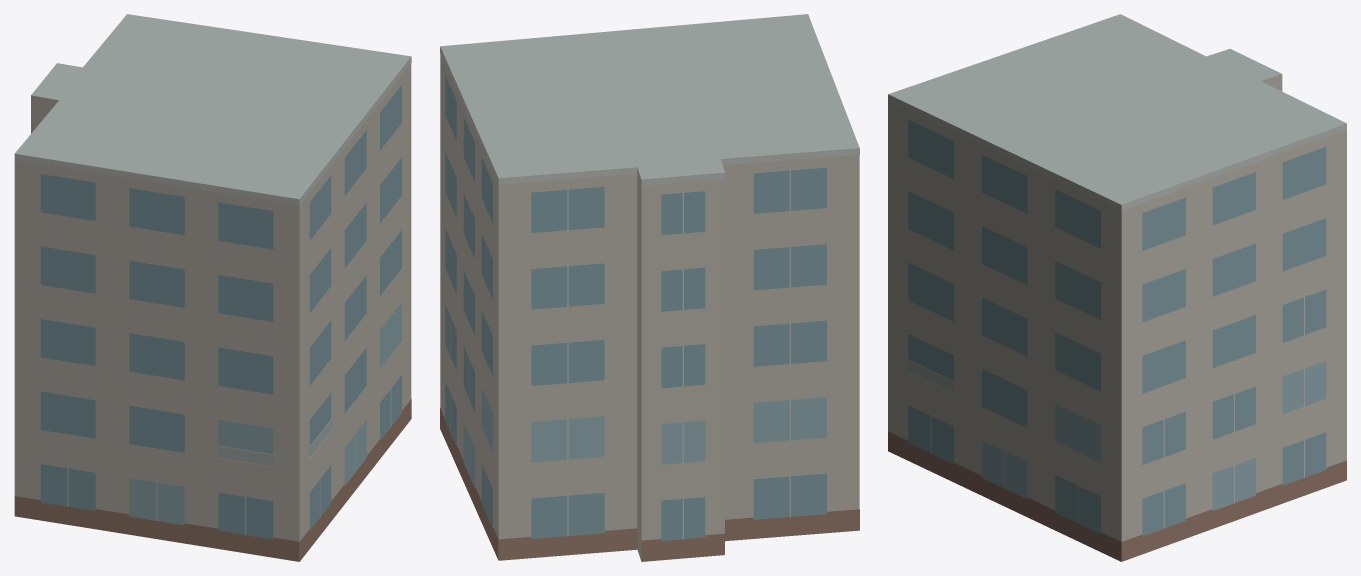
The model's file is survey-upis-33019010.glb.
3 renders of one model, left to right at view 1: azimuth 30°, elevation 25°; view 2: azimuth 150°, elevation 25°; view 3: azimuth 270°, elevation 25°, orthographic. The views are drawn at different scales.
Parts seen in each view (by area): view 1: survey-upis-33019010.tmp; view 2: survey-upis-33019010.tmp; view 3: survey-upis-33019010.tmp.
Boxes of the visible parts, left/top/right/bottom form: survey-upis-33019010.tmp: left=14, top=14, right=411, bottom=561; survey-upis-33019010.tmp: left=440, top=14, right=859, bottom=561; survey-upis-33019010.tmp: left=888, top=14, right=1346, bottom=561.
Bounding box in the file's own units: 16.29 × 14.2 × 16.54.
